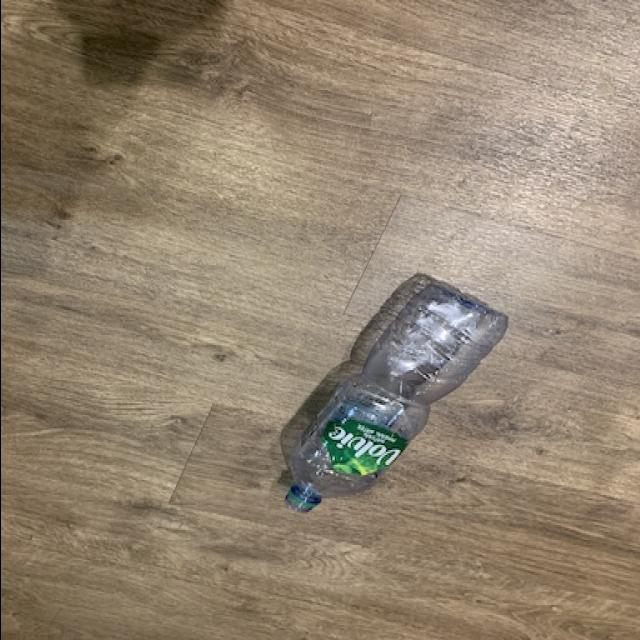PET: (274, 265, 508, 520)
